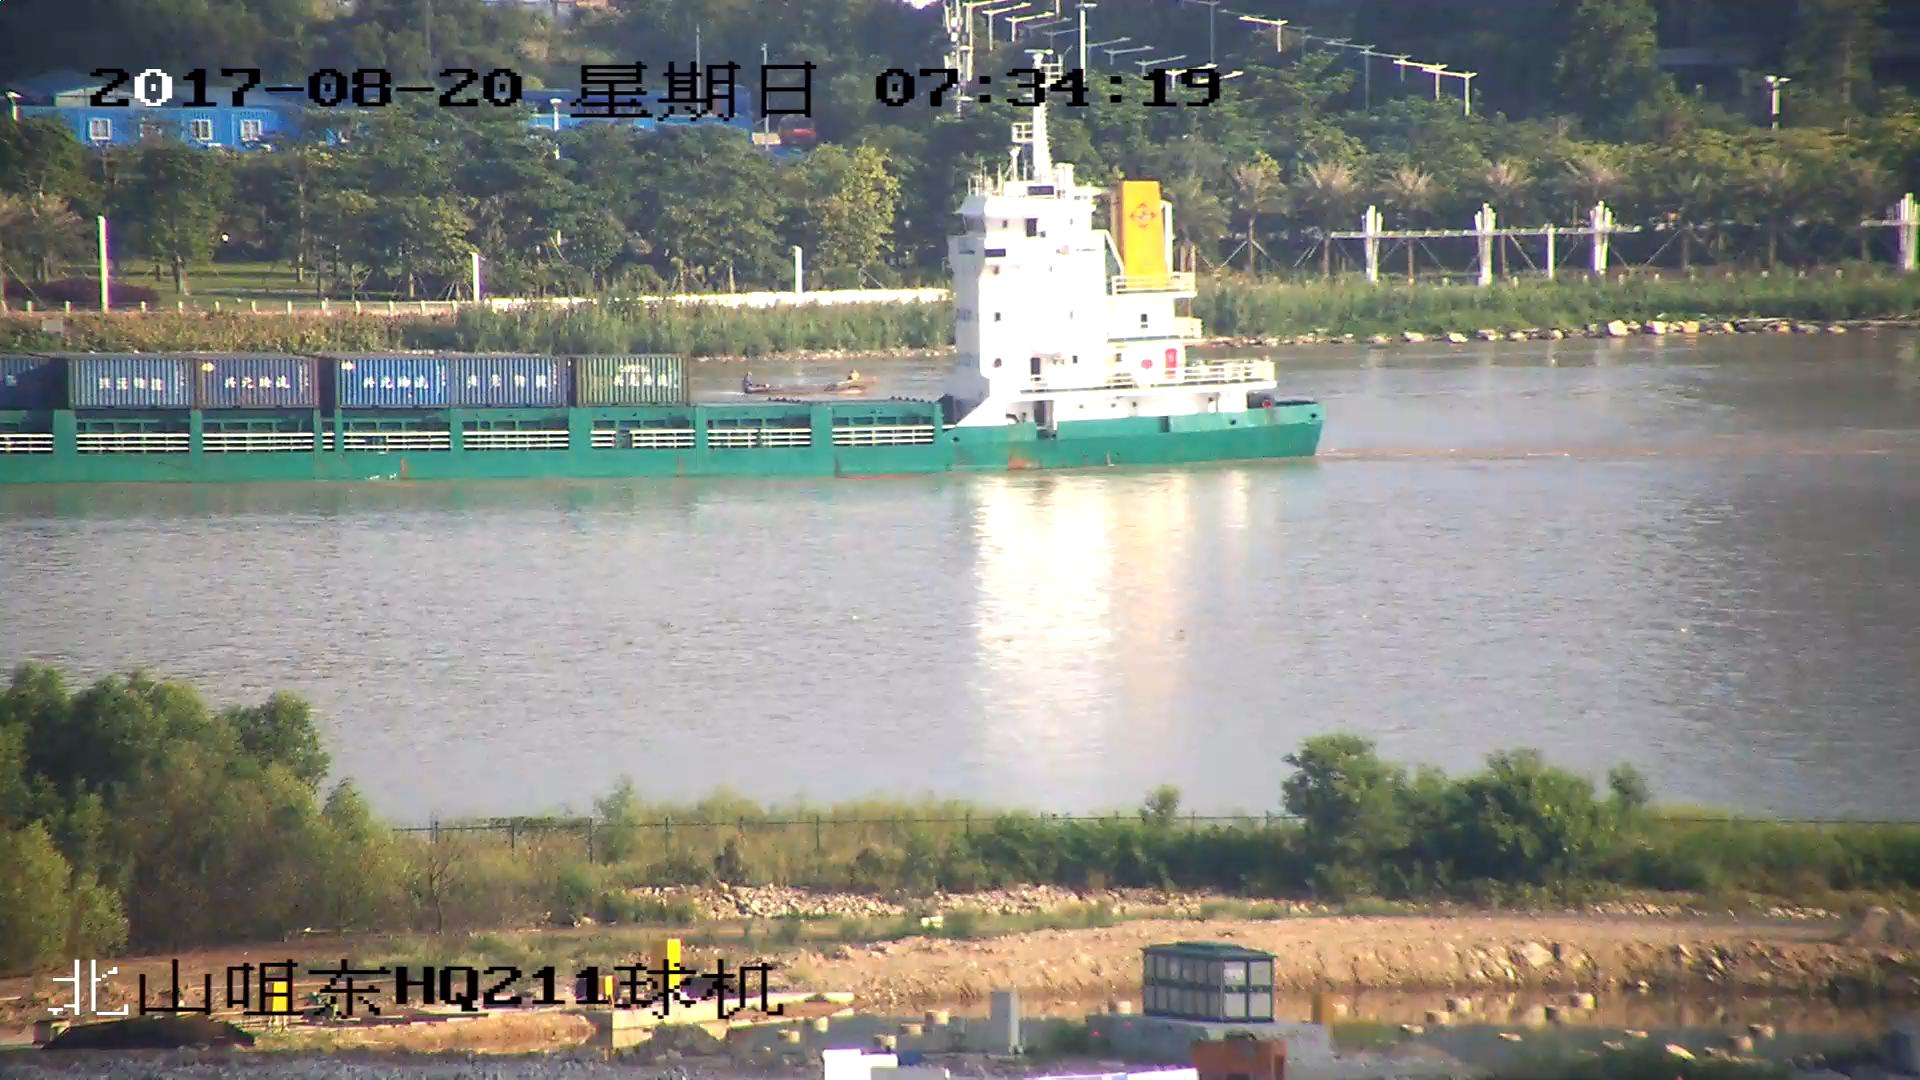general cargo ship: (1, 108, 1327, 479)
